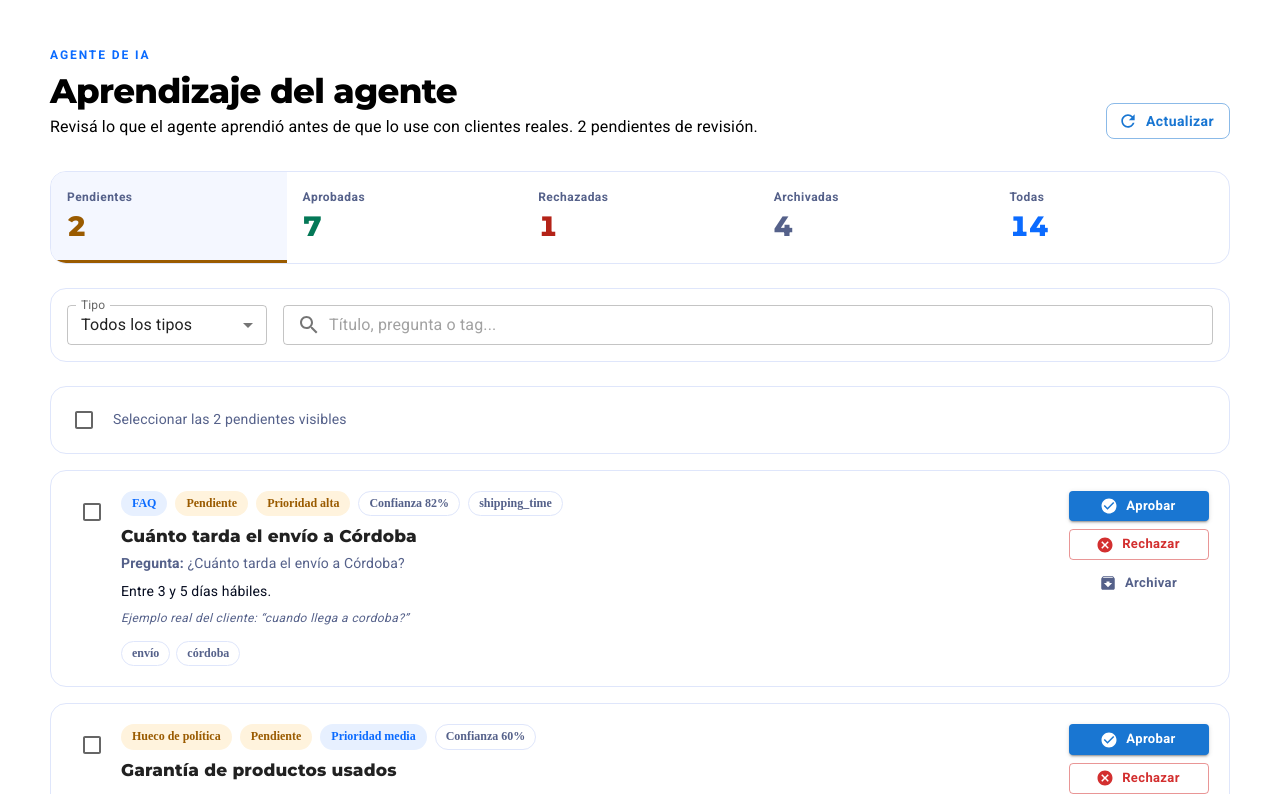
Aprendizaje · acciones según el estado › aprobar manda el id con lo editado, separa las etiquetas y avisa
The width and height of the screenshot is (1280, 794).
Step 1. Click the button "Aprobar" in the row of "shipping_time" → (1139, 506), box [1069,490,1209,521]
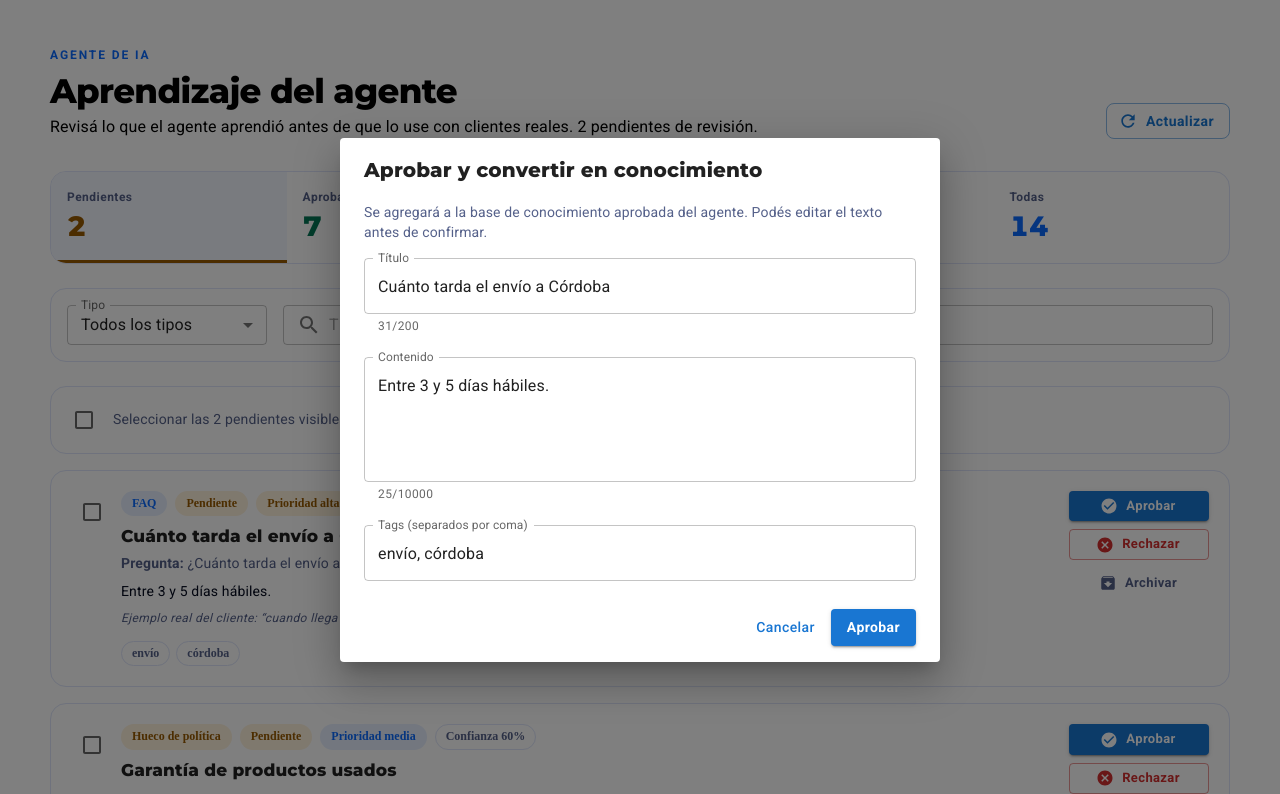
Step 2. Replace the text in the text box labelled "Contenido" with "  Entre 2 y 4 días hábiles.  " → (640, 420), box [378,374,902,466]
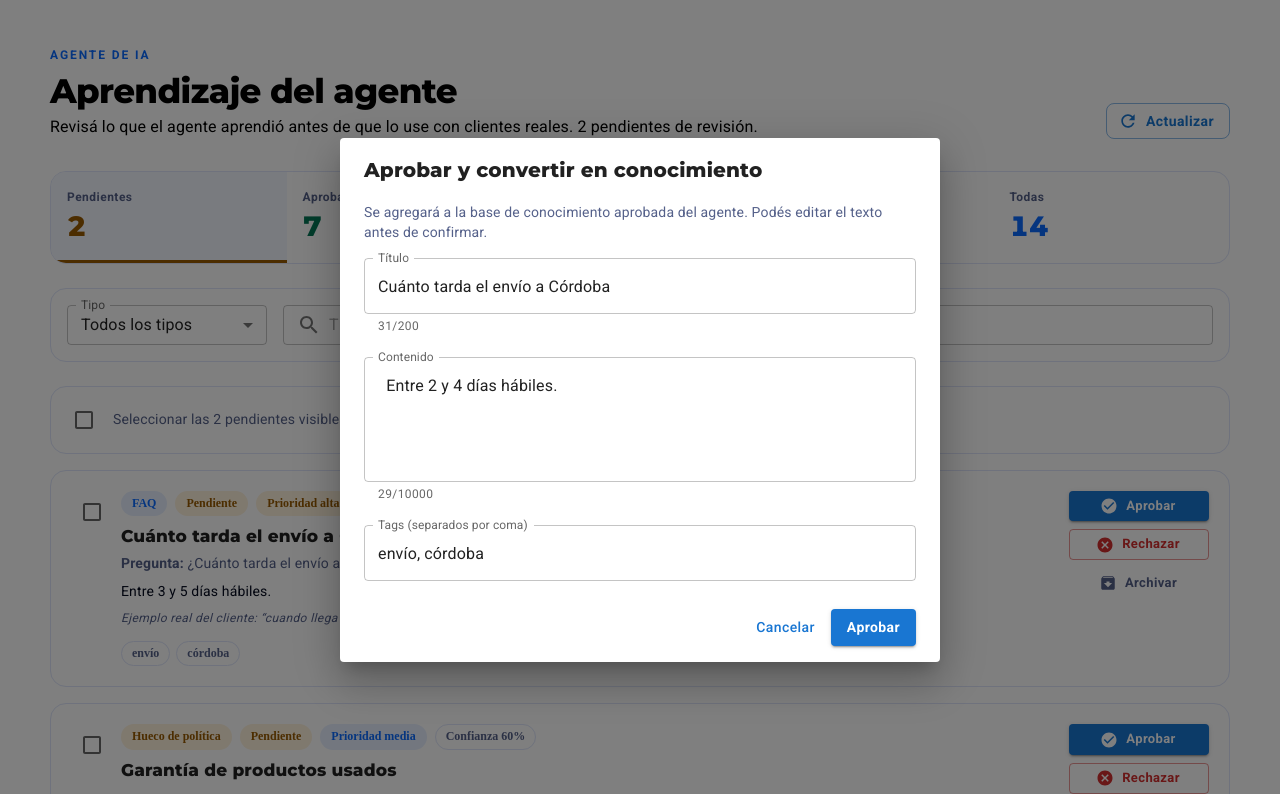
Step 3. Replace the text in the field labelled "Tags (separados por coma)" with "envío, , plazos ," → (640, 553), box [364,525,916,581]
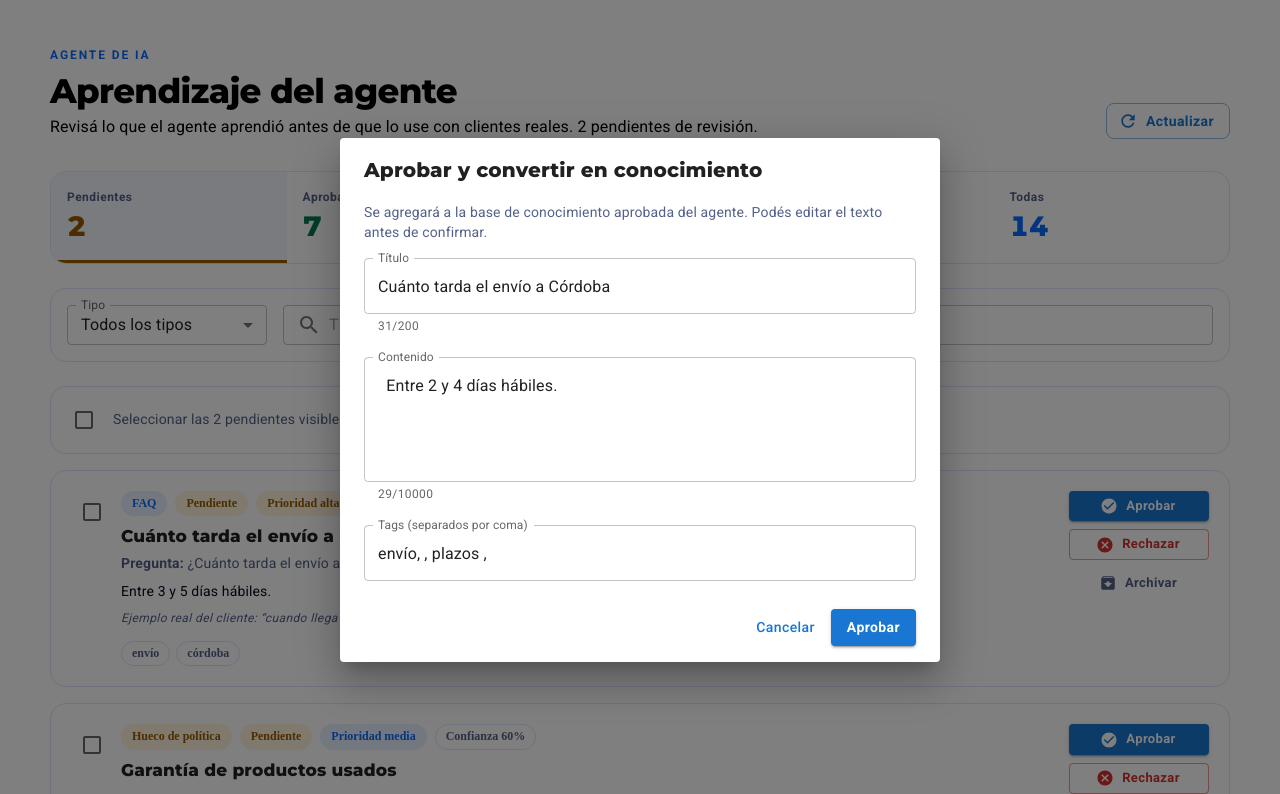
Step 4. Click the button "Aprobar" → (873, 627), box [831,609,916,646]
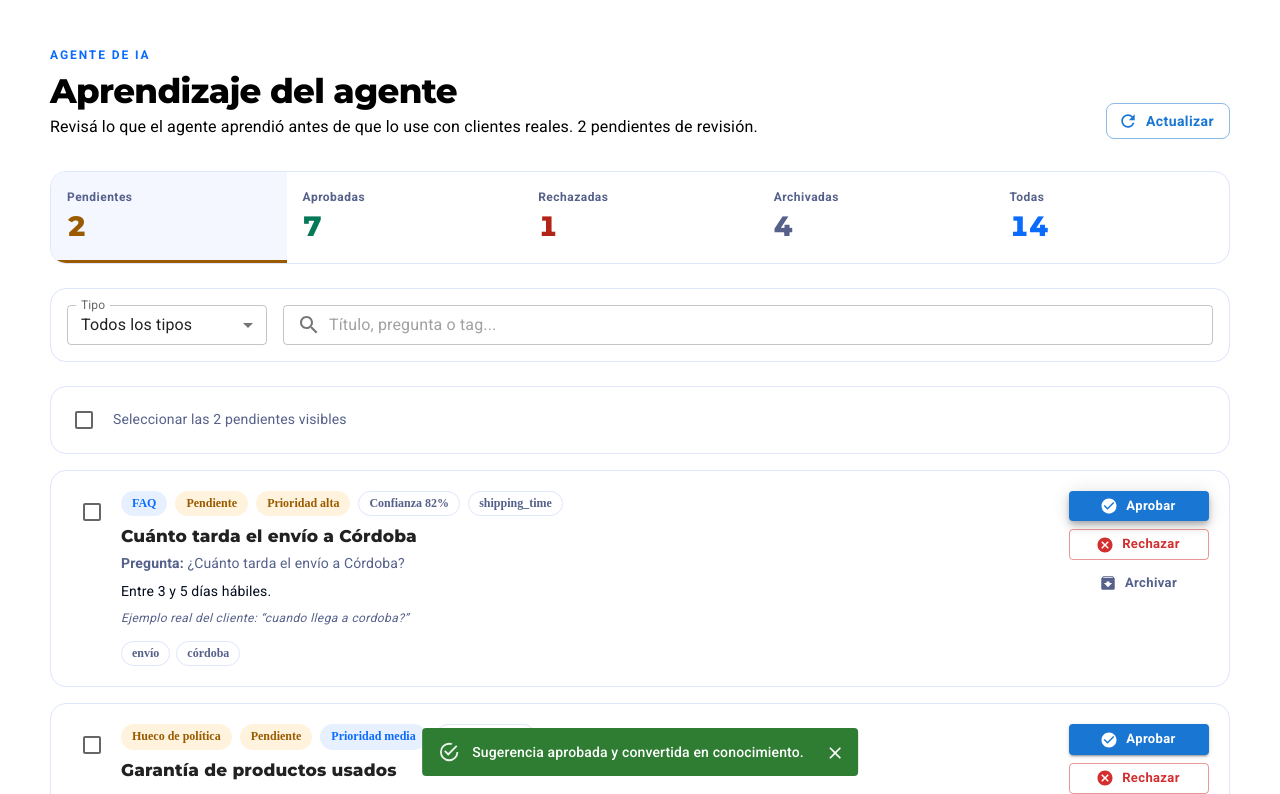
Check: the text "Sugerencia aprobada y convertida en conocimiento." is shown, box [472,744,804,760]
